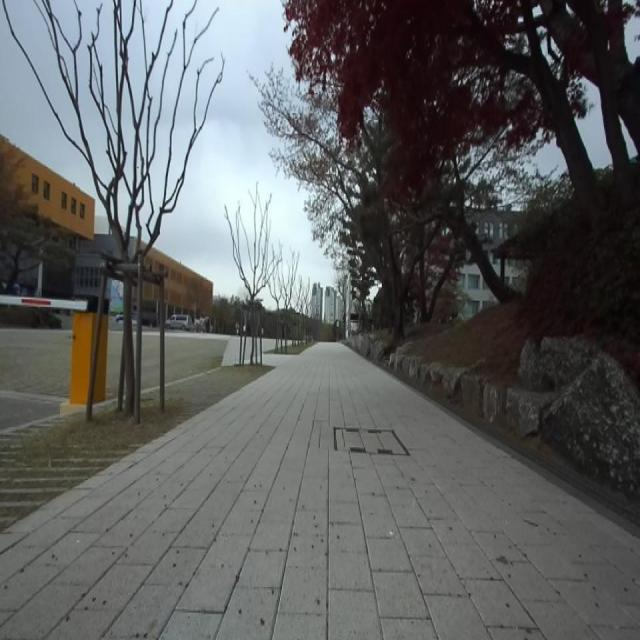sidewalk: (0, 343, 640, 639), (263, 337, 292, 366), (223, 338, 239, 365), (246, 339, 251, 362), (246, 340, 250, 362)
